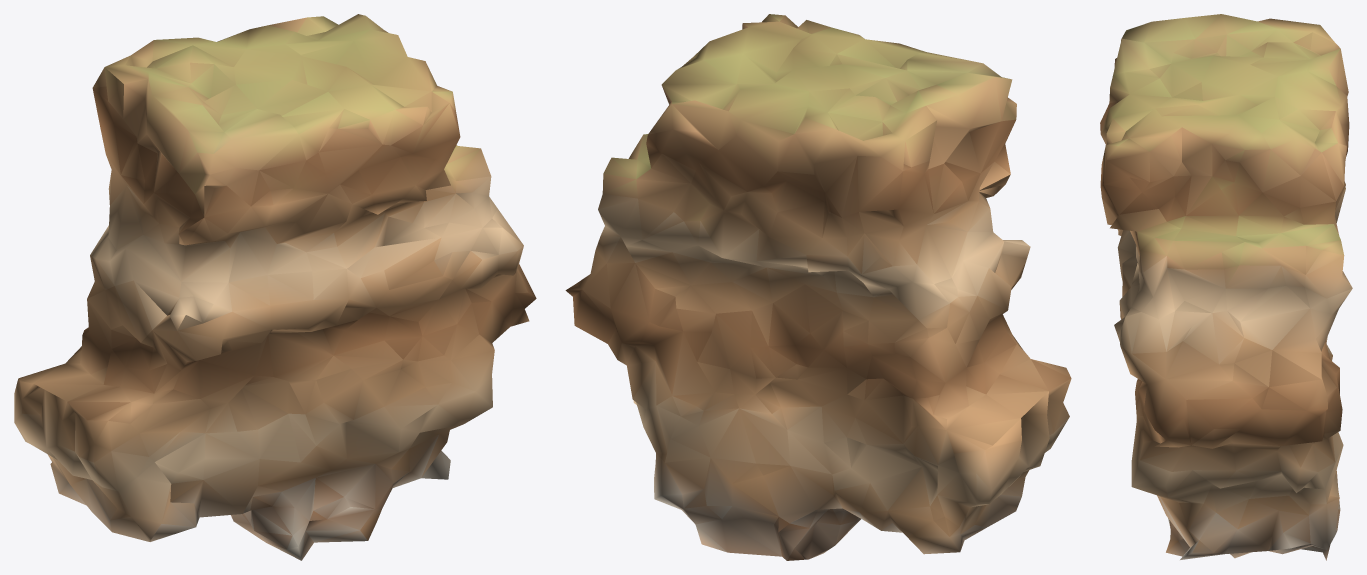
Rendered from shore_cliff_a_lod2.glb.
3 views of the same model, side by side, from view 1: azimuth 30°, elevation 25°; view 2: azimuth 150°, elevation 25°; view 3: azimuth 270°, elevation 25° (orthographic). The views are drawn at different scales.
Parts seen in each view (by area): view 1: shore_cliff_a.001; view 2: shore_cliff_a.001; view 3: shore_cliff_a.001.
Part boxes in pixels (<box>): shore_cliff_a.001: <box>14,14,536,560</box>; shore_cliff_a.001: <box>565,14,1071,560</box>; shore_cliff_a.001: <box>1100,14,1352,560</box>.
Size of the model in its own units: 28.72 by 29.34 by 14.65.
